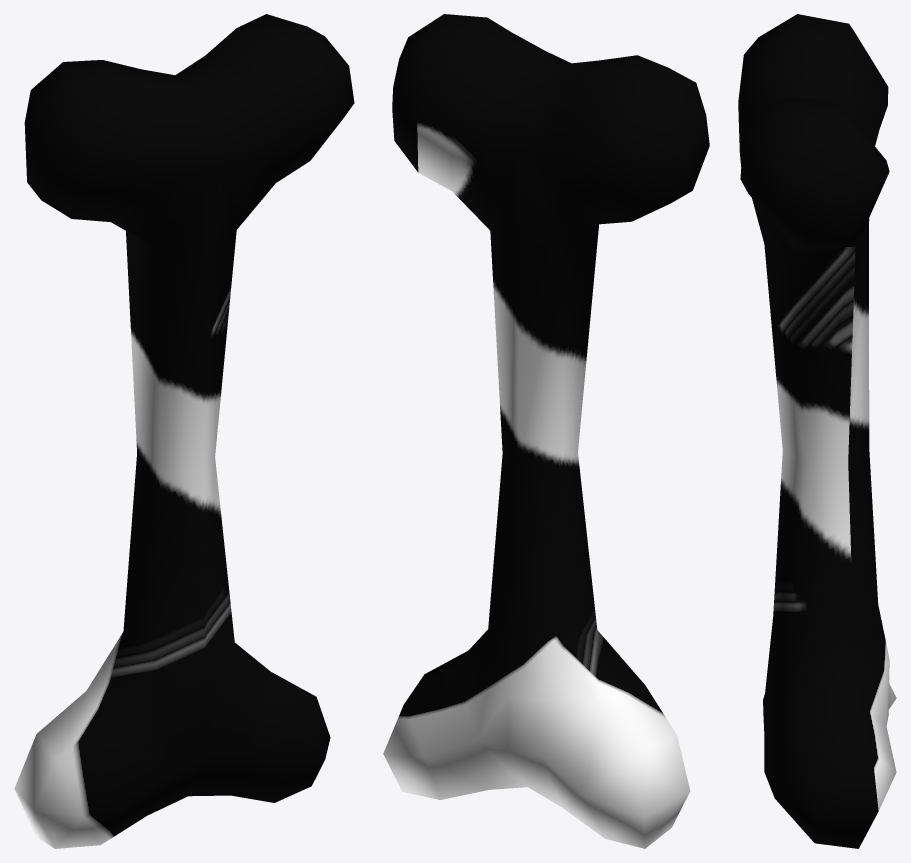
File: bone2.FBX
The picture shows the model from 3 angles, left to right: view 1: azimuth 30°, elevation 25°; view 2: azimuth 150°, elevation 25°; view 3: azimuth 270°, elevation 25°; orthographic projection. The views are drawn at different scales.
Parts seen in each view (by area): view 1: bone1; view 2: bone1; view 3: bone1.
Boxes of the visible parts, left/top/right/bottom form: bone1: left=14, top=14, right=354, bottom=848; bone1: left=383, top=14, right=709, bottom=848; bone1: left=738, top=14, right=896, bottom=848.
Size of the model in its own units: 0.9813 by 2.43 by 0.481.
